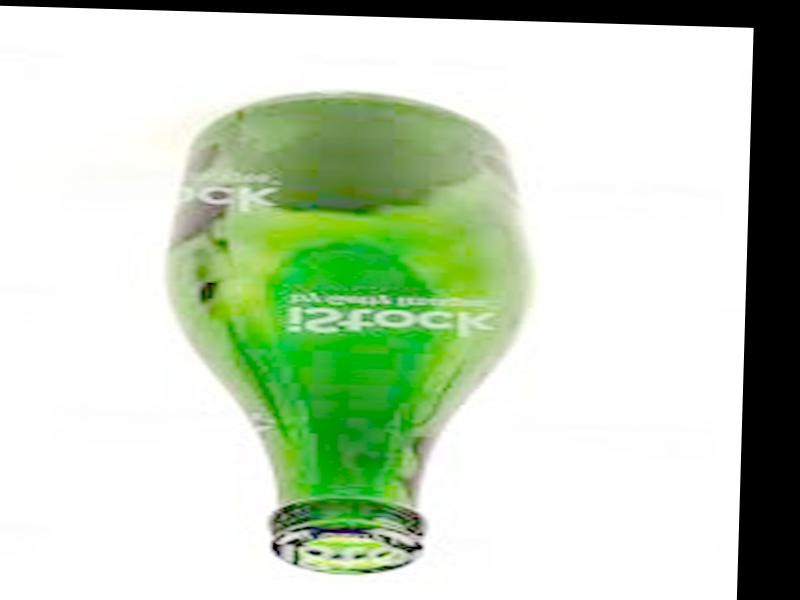Beer: (155, 86, 539, 581)
